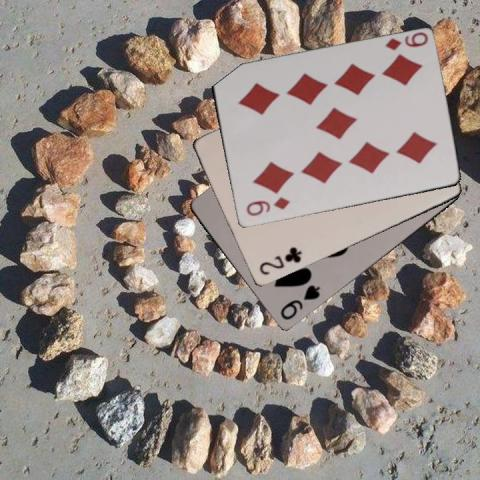2c: (256, 244, 303, 277)
9d: (242, 194, 290, 218), (382, 30, 429, 53)
9s: (277, 282, 322, 322)
